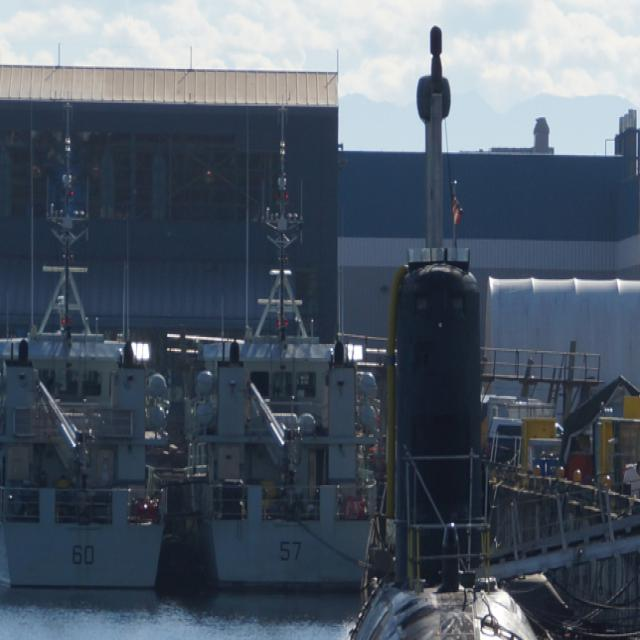submarine: (326, 262, 593, 640)
